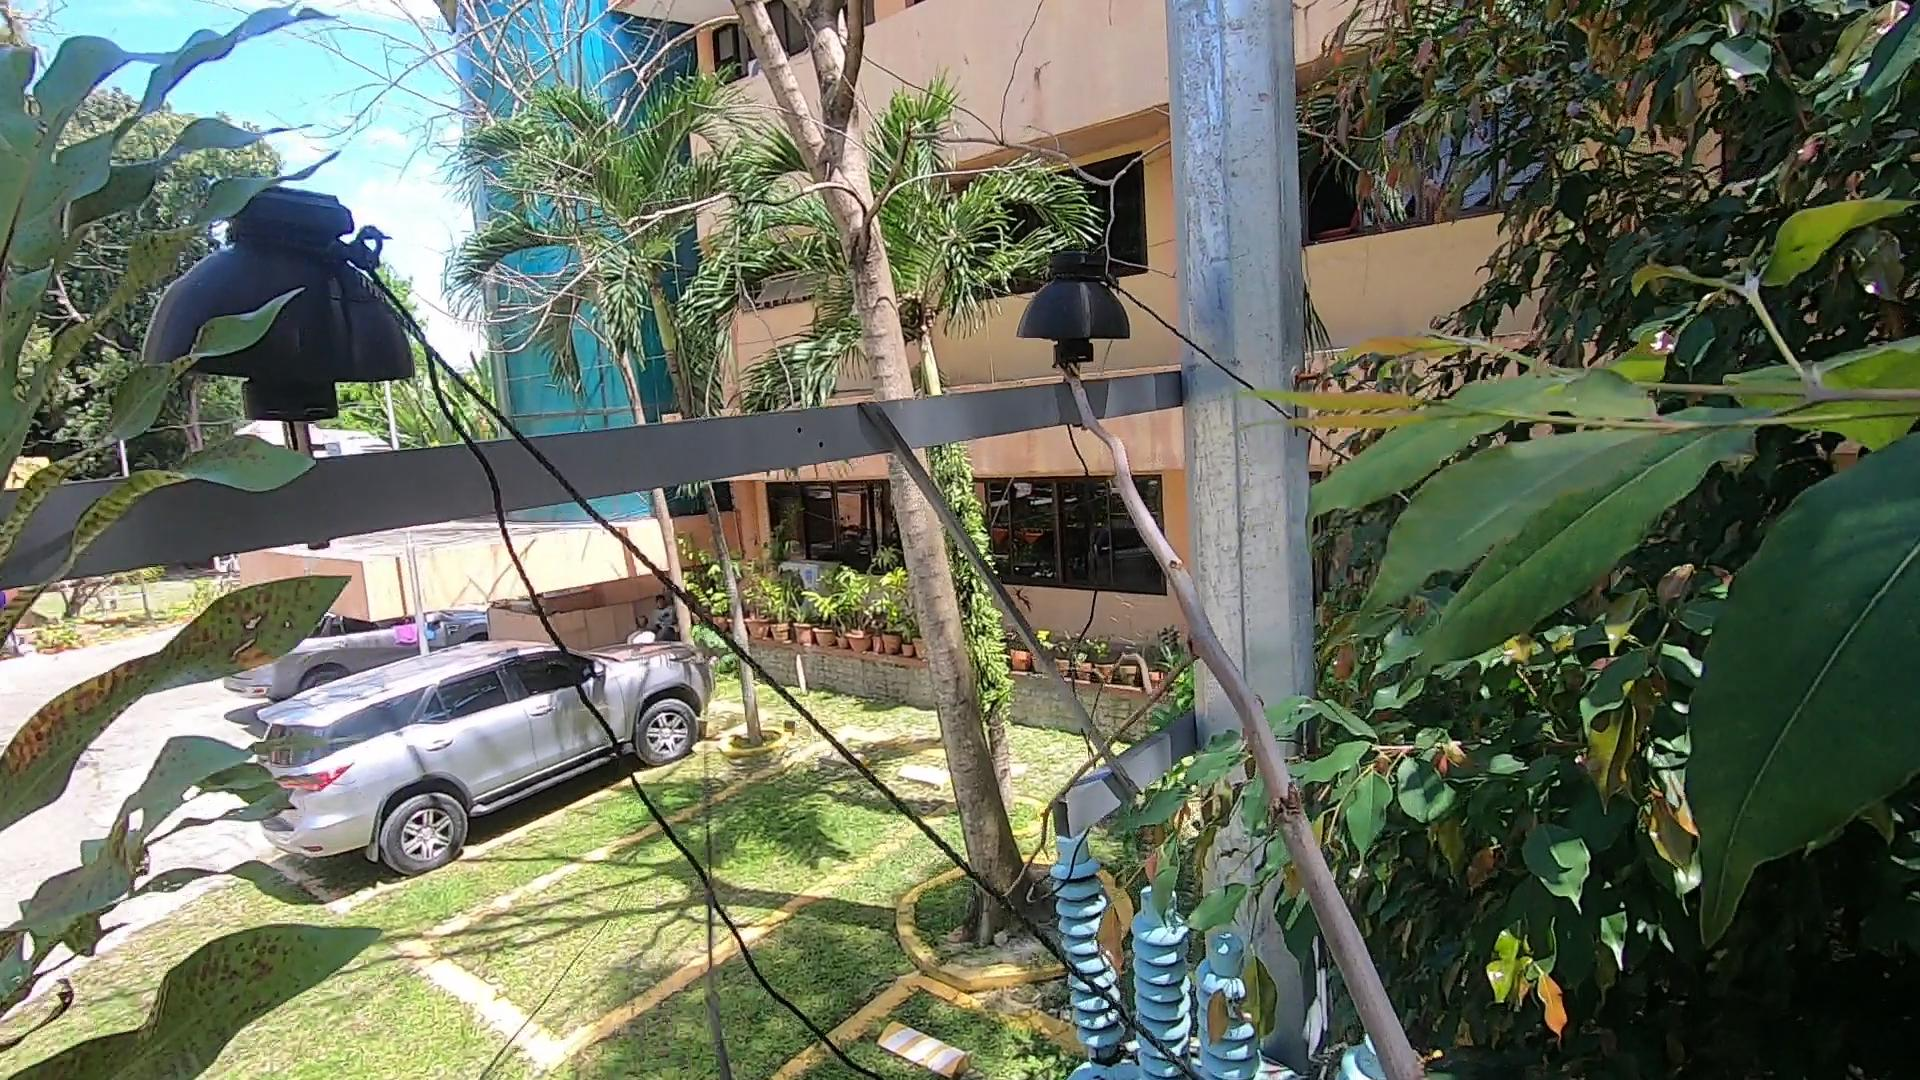branch with leaves: (1129, 723, 1338, 1065)
leaf: (7, 20, 406, 1047)
tree branch: (1035, 315, 1461, 1080)
